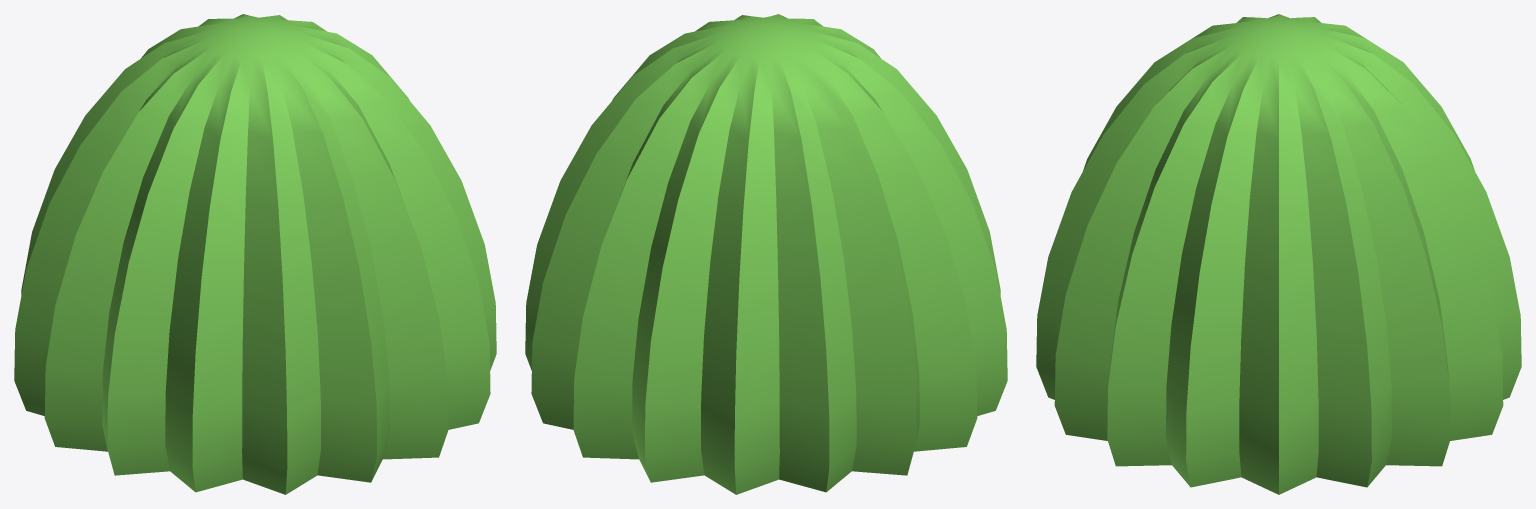
Rendered from Bush_1.fbx.
3 renders of one model, left to right at view 1: azimuth 30°, elevation 25°; view 2: azimuth 150°, elevation 25°; view 3: azimuth 270°, elevation 25°, orthographic.
Visible parts, largest first — view 1: bushes_3; view 2: bushes_3; view 3: bushes_3.
Part boxes in pixels (x1,y1,x2,y2): bushes_3: [14, 14, 496, 494]; bushes_3: [525, 14, 1007, 494]; bushes_3: [1036, 14, 1521, 494].
Size of the model in its own units: 60.14 by 50 by 60.14.
